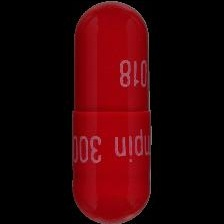55154-6526: (0, 0, 224, 224)
